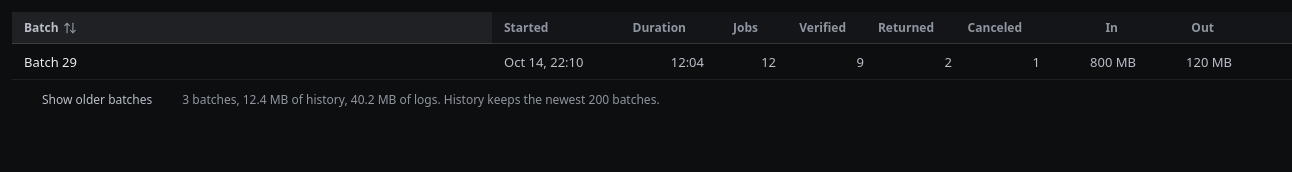
Test: History table › shows older batches on request
Click the button "Show older batches": click(97, 100) [24,88,170,112]
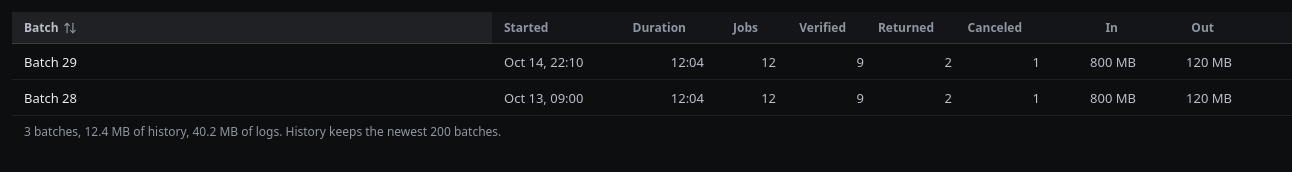
Expected: the button "Show older batches" is gone
